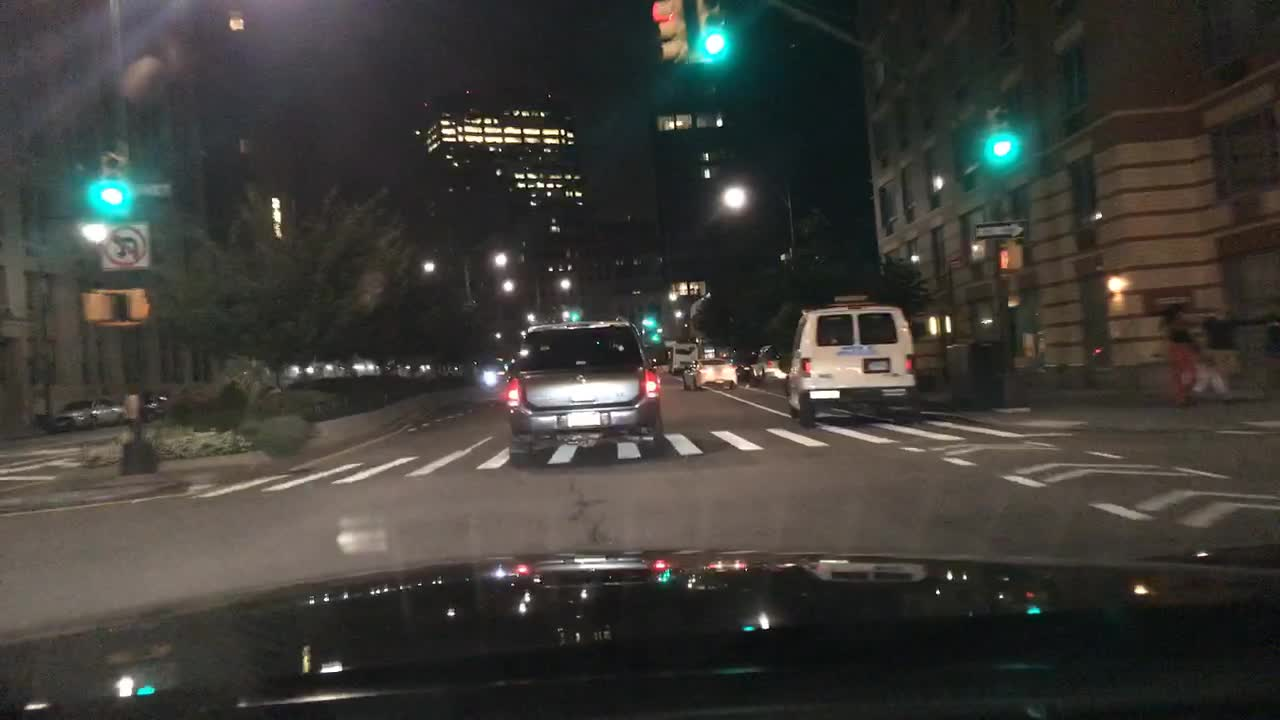bus: (666, 339, 697, 374)
car: (503, 320, 661, 455), (776, 295, 921, 428), (50, 398, 130, 432), (681, 344, 735, 388), (749, 341, 796, 386), (141, 390, 172, 425), (734, 347, 757, 383)
person: (1184, 314, 1232, 407), (1157, 300, 1198, 407)
traffic light: (651, 0, 688, 62), (99, 148, 130, 209), (695, 0, 727, 59), (984, 104, 1012, 158), (125, 287, 152, 322), (84, 295, 113, 324), (995, 245, 1022, 273), (643, 309, 656, 329), (568, 302, 582, 320), (646, 329, 660, 344)
traffic sign: (98, 226, 152, 270), (972, 219, 1026, 239), (136, 180, 170, 197)
